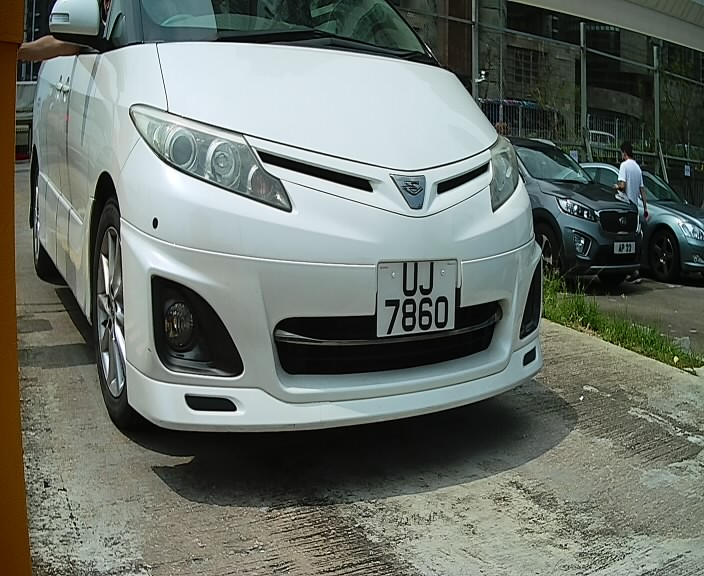Car: (50, 1, 579, 465)
License Plate: (370, 255, 469, 348)
